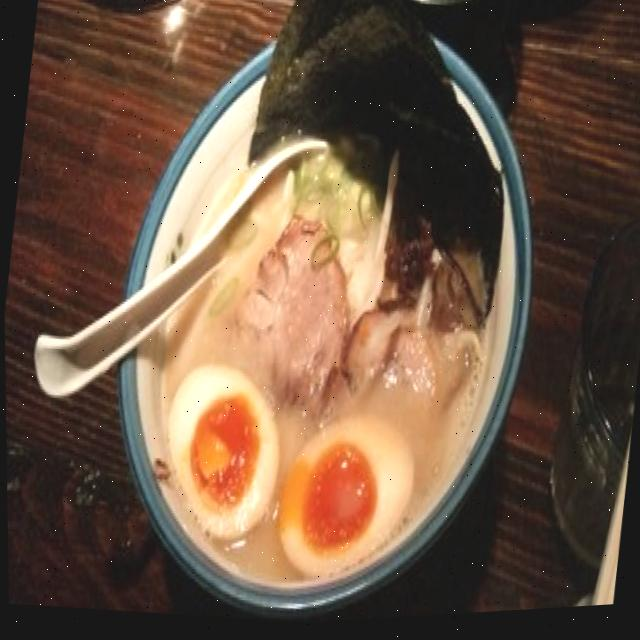面条主食: (82, 0, 575, 636)
